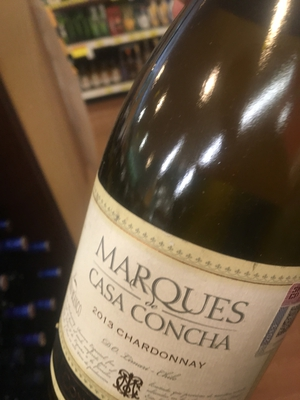marques de casa concha chardonnay: (43, 37, 298, 400)
